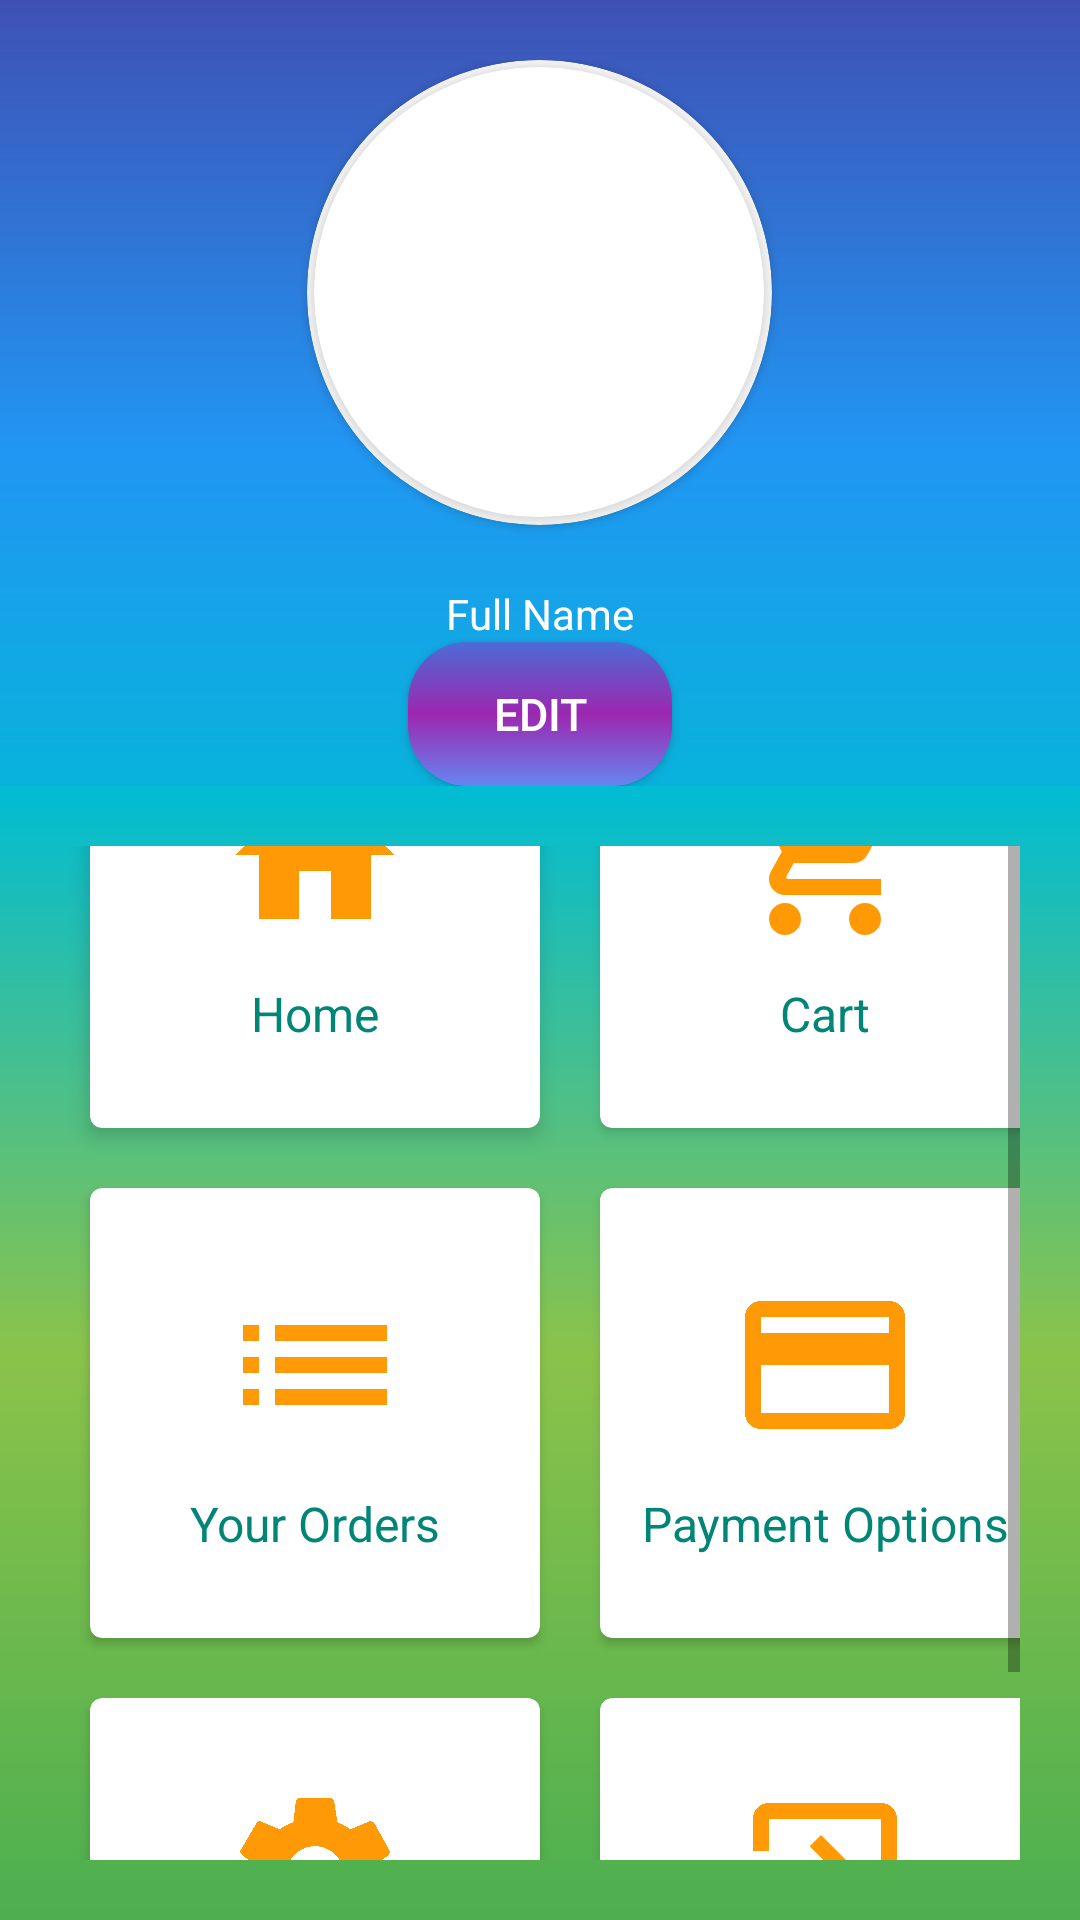

Where icons sit on this 1080x1920 app screen, as (x1, y1, x2, y2):
list: (243, 1325, 387, 1405)
